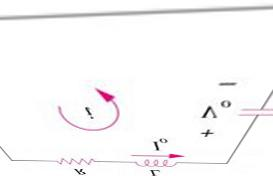resistor: (55, 151, 100, 168)
